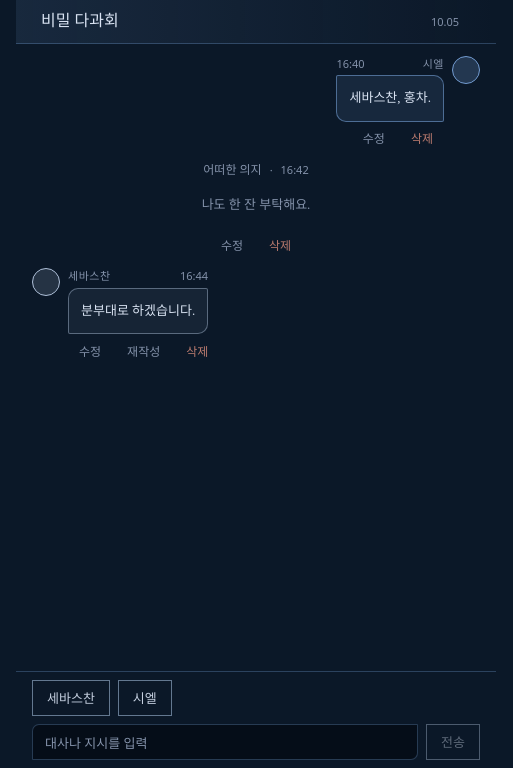
Test: 메시지 id 래퍼 roomId (F-CH-72 · R-LOCK-006) › TC-CH-156: (c) 재작성 → regenerate(104, r1)
The image size is (513, 768).
expect the element named "대화 기록" is shown: met, box [32,56,480,366]
Click the button with aria-label "세바스찬 대사 재작성": (144, 352) [116,338,171,366]
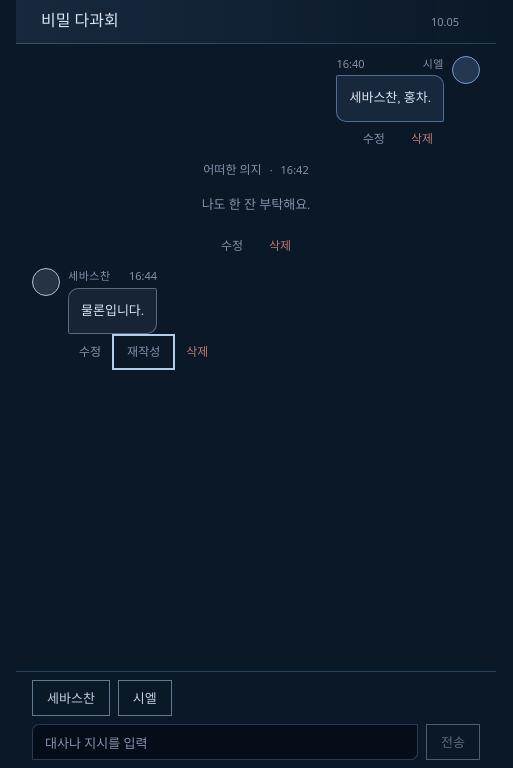
expect the text "물론입니다." is shown: met, box [68,288,157,334]
